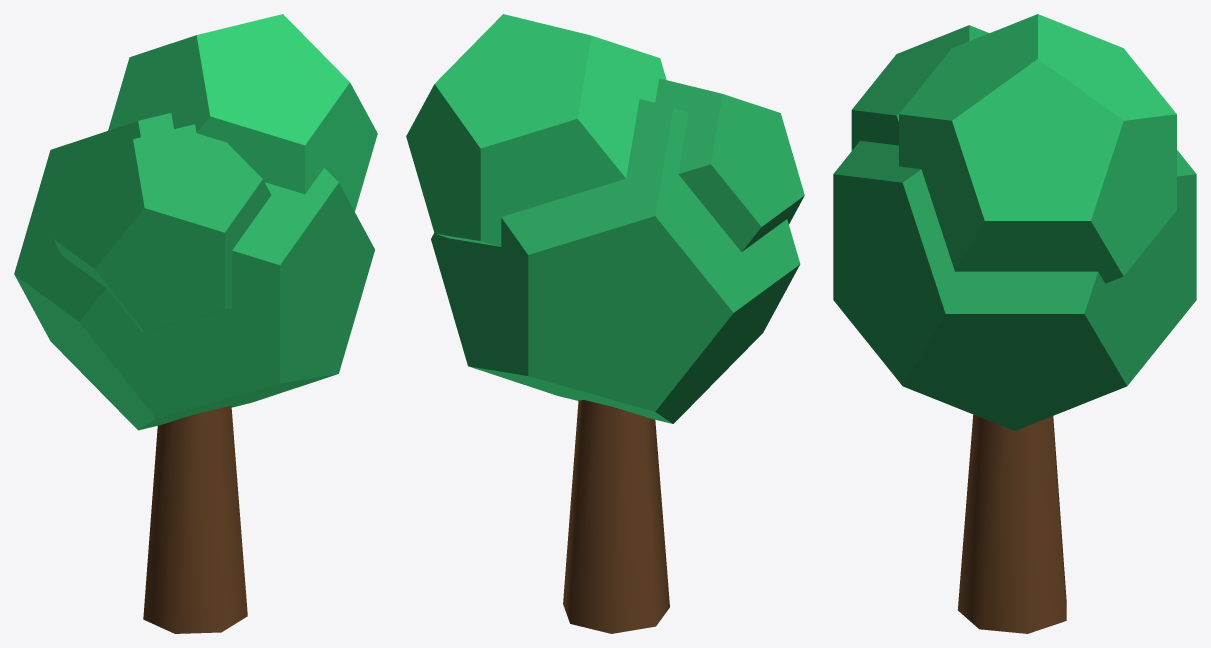
File: tree_oak.glb
3 renders of one model, left to right at view 1: azimuth 30°, elevation 25°; view 2: azimuth 150°, elevation 25°; view 3: azimuth 270°, elevation 25°, orthographic. The views are drawn at different scales.
Parts seen in each view (by area): view 1: Kenney_Tree_Oak; view 2: Kenney_Tree_Oak; view 3: Kenney_Tree_Oak.
Boxes of the visible parts, x1,y1,x2,y2 form: Kenney_Tree_Oak: [14, 14, 377, 633]; Kenney_Tree_Oak: [406, 14, 804, 633]; Kenney_Tree_Oak: [833, 14, 1196, 633].
Size of the model in its own units: 1.7 by 2.91 by 1.59.
